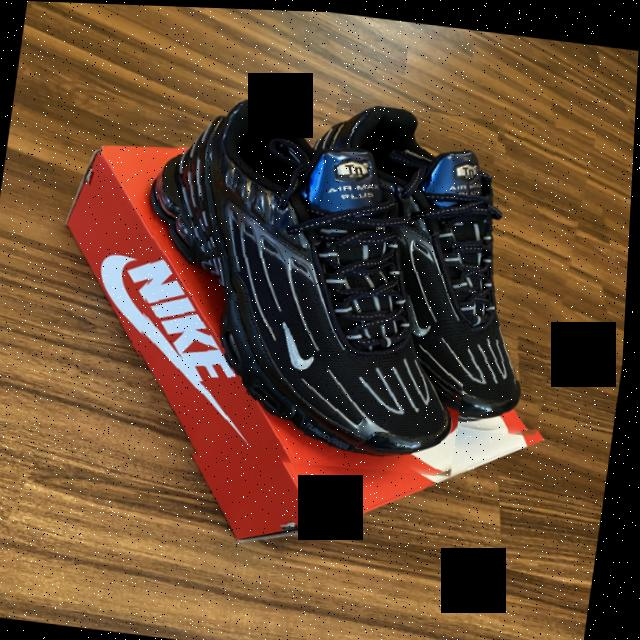shoe: (124, 78, 502, 485), (268, 93, 599, 443)
